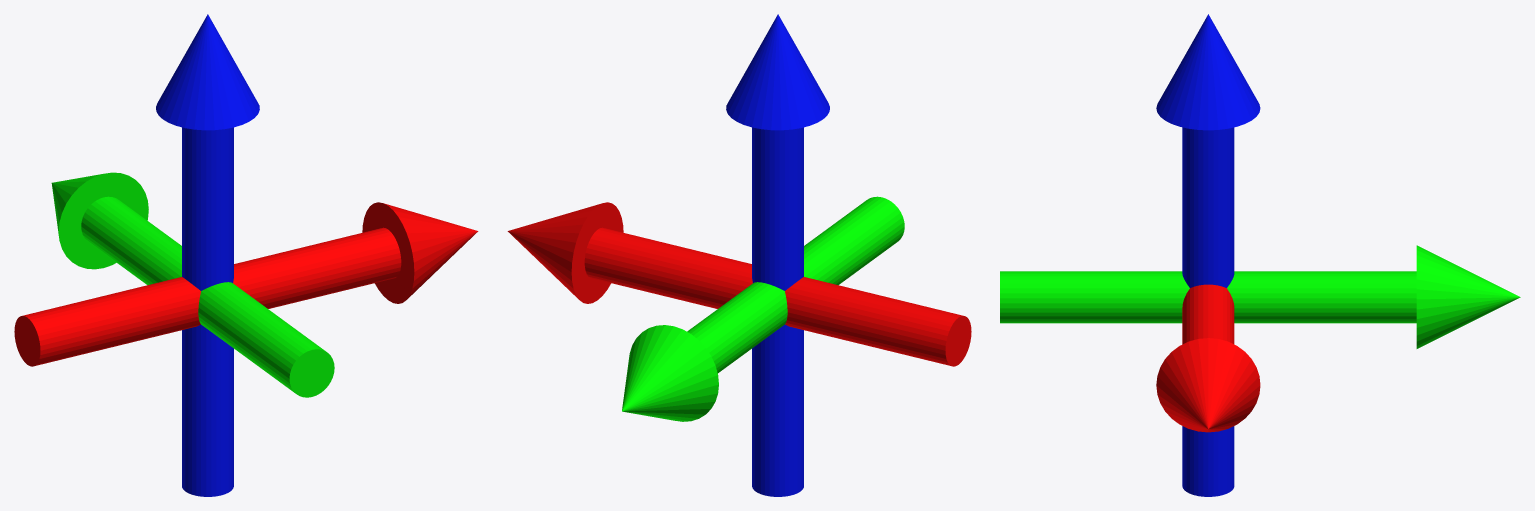
Rendered from Coordinatesystem.dae.
3 renders of one model, left to right at view 1: azimuth 30°, elevation 25°; view 2: azimuth 150°, elevation 25°; view 3: azimuth 270°, elevation 25°, orthographic.
Visible parts, largest first — view 1: Z, X, Y; view 2: Z, X, Y; view 3: Y, Z, X.
Part boxes in pixels (x1,y1,x2,y2): Z: (156, 14, 259, 496); X: (14, 202, 478, 366); Y: (51, 172, 334, 397); Z: (726, 14, 829, 496); X: (507, 202, 971, 366); Y: (622, 196, 904, 421); Y: (1000, 245, 1520, 348); Z: (1156, 14, 1260, 496); X: (1156, 284, 1260, 432).
Bounding box in the file's own units: 5 × 5 × 5.
